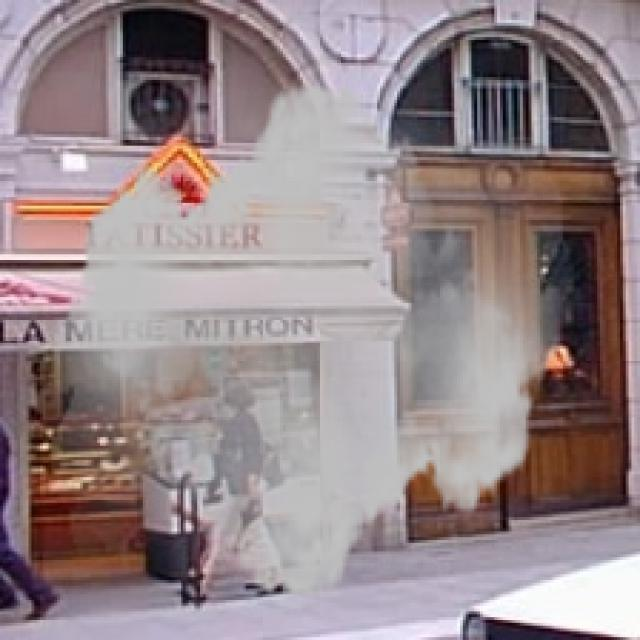Smoke: (39, 60, 574, 620)
